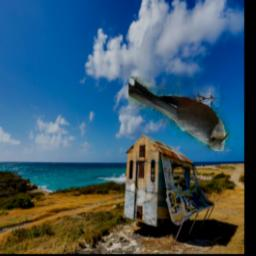Cuckoo: (128, 78, 229, 152)
